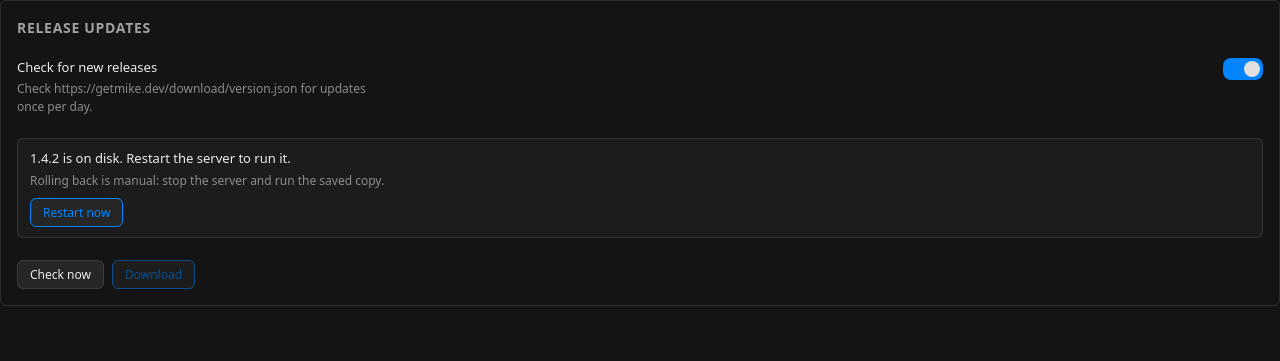
Test: staged and waiting for a restart › shows the sentence of a server that has no restart path once the click is refused
This screenshot has width=1280, height=361.
Click the button with test id "update-restart": (77, 212) [30, 198, 123, 227]
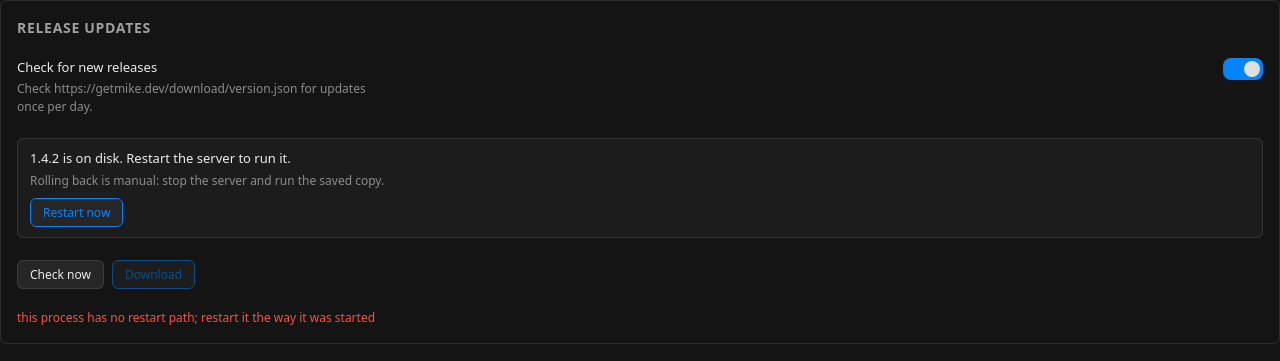
Now the text "no restart path" is shown, box [17, 309, 375, 326]
